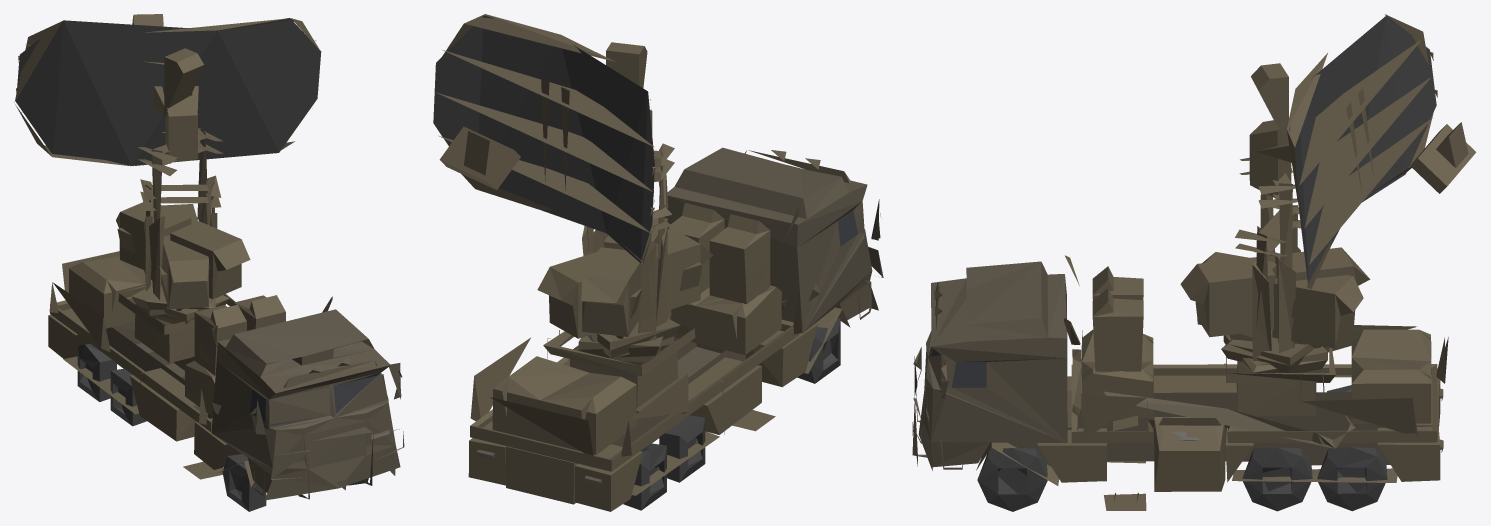
File: radar-truck.lod1.glb
The picture shows the model from 3 angles, left to right: view 1: azimuth 30°, elevation 25°; view 2: azimuth 150°, elevation 25°; view 3: azimuth 270°, elevation 25°; orthographic projection. The views are drawn at different scales.
Parts seen in each view (by area): view 1: Object_2; view 2: Object_2; view 3: Object_2.
Boxes of the visible parts, x1,y1,x2,y2 form: Object_2: (14,14,404,511); Object_2: (433,14,883,511); Object_2: (912,14,1476,511).
Size of the model in its own units: 5.72 by 8.27 by 9.93.
